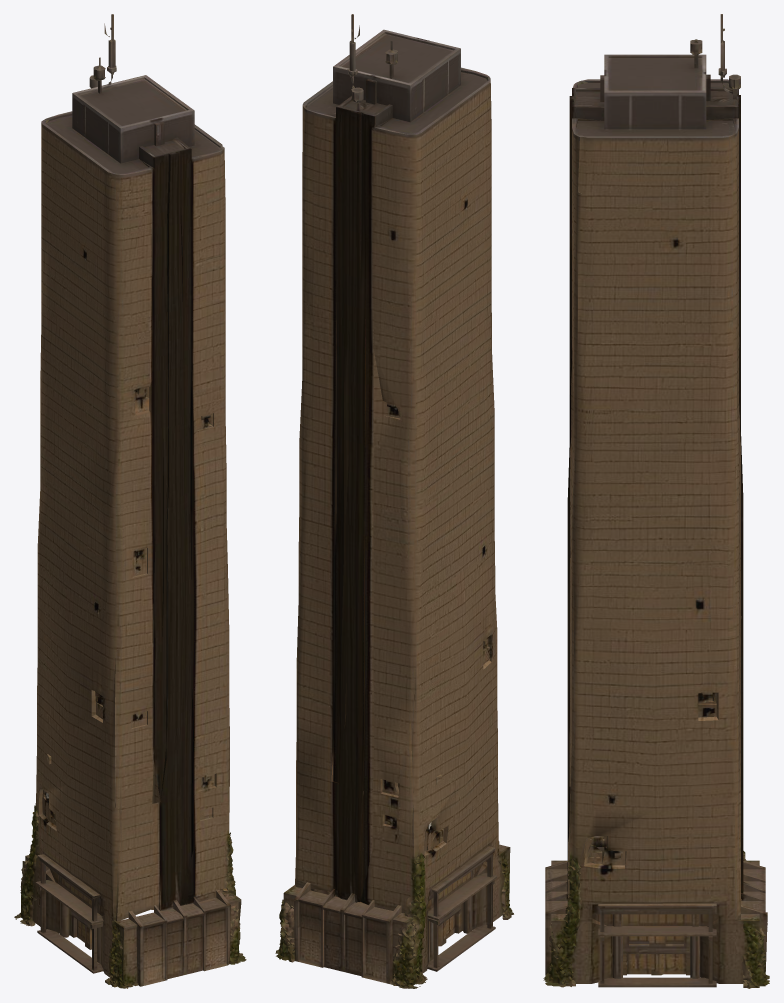
Rendered from yeouido-gold-tower.glb.
3 views of the same model, side by side, from view 1: azimuth 30°, elevation 25°; view 2: azimuth 150°, elevation 25°; view 3: azimuth 270°, elevation 25° (orthographic). The views are drawn at different scales.
Parts seen in each view (by area): view 1: tripo_node_2305ac6d-9fc4-4eb0-87dc-a09d1917ed48; view 2: tripo_node_2305ac6d-9fc4-4eb0-87dc-a09d1917ed48; view 3: tripo_node_2305ac6d-9fc4-4eb0-87dc-a09d1917ed48.
Boxes of the visible parts, <box> form: tripo_node_2305ac6d-9fc4-4eb0-87dc-a09d1917ed48: <box>14,14,246,988</box>; tripo_node_2305ac6d-9fc4-4eb0-87dc-a09d1917ed48: <box>275,14,513,988</box>; tripo_node_2305ac6d-9fc4-4eb0-87dc-a09d1917ed48: <box>543,14,769,988</box>.
Bounding box in the file's own units: 0.1621 × 0.998 × 0.2168.
Materials: 1 (1 with a texture image).
